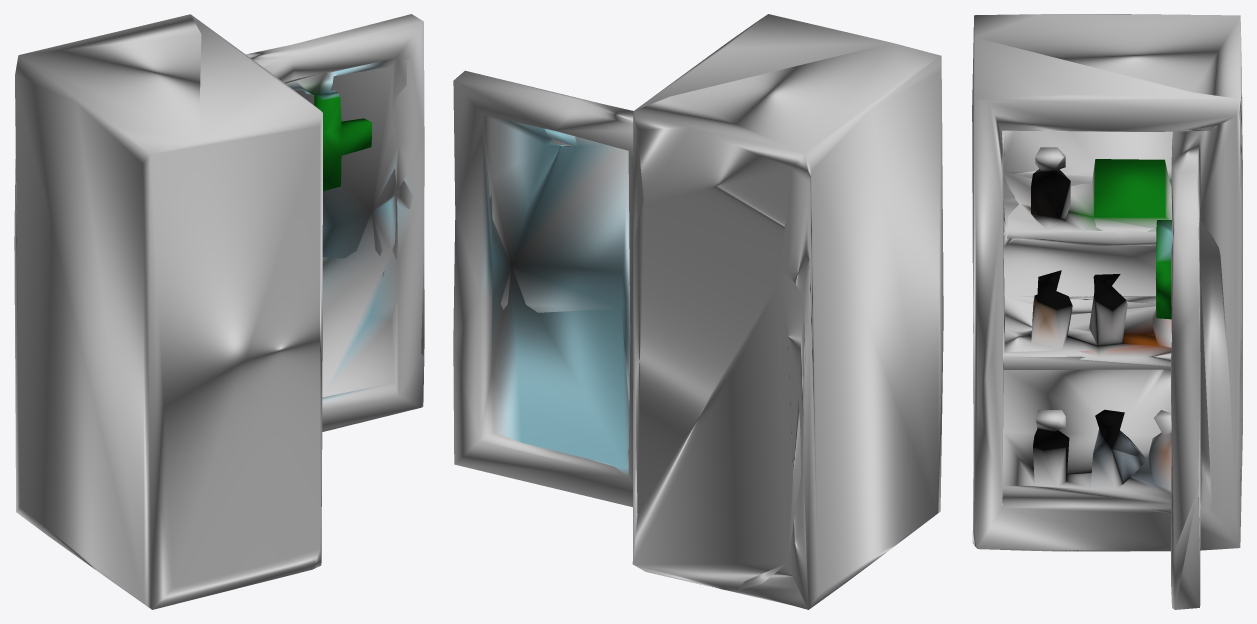
The model's file is gen3d-medicine-cabinet-lod1.glb.
3 views of the same model, side by side, from view 1: azimuth 30°, elevation 25°; view 2: azimuth 150°, elevation 25°; view 3: azimuth 270°, elevation 25° (orthographic).
Parts seen in each view (by area): view 1: part_0; view 2: part_0; view 3: part_0.
Boxes of the visible parts, x1,y1,x2,y2 form: part_0: [14, 14, 424, 609]; part_0: [453, 14, 943, 609]; part_0: [972, 14, 1242, 609].
Size of the model in its own units: 0.8607 by 0.9998 by 0.5372.
